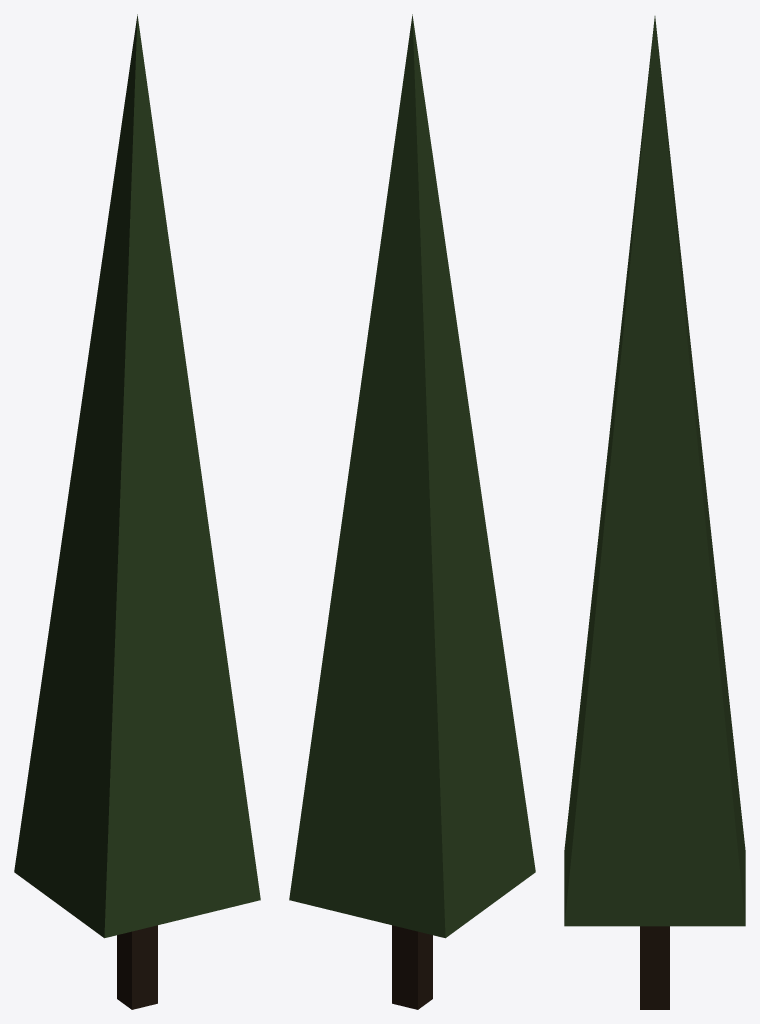
The model's file is tree_1.FBX.
3 views of the same model, side by side, from view 1: azimuth 30°, elevation 25°; view 2: azimuth 150°, elevation 25°; view 3: azimuth 270°, elevation 25° (orthographic).
Visible parts, largest first — view 1: tree_1; view 2: tree_1; view 3: tree_1.
Part boxes in pixels (<box>): tree_1: <box>14,14,260,1009</box>; tree_1: <box>289,14,535,1009</box>; tree_1: <box>564,16,745,1009</box>.
Size of the model in its own units: 11.53 by 69.58 by 11.53.
